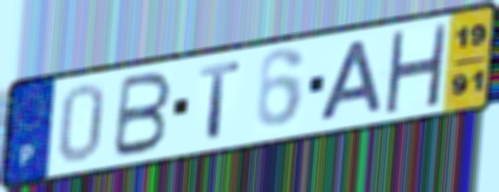0: (54, 81, 107, 167)
6: (255, 45, 309, 139)
A: (315, 38, 385, 124)
B: (109, 69, 175, 161)
H: (381, 23, 450, 114)
T: (197, 58, 243, 141)
